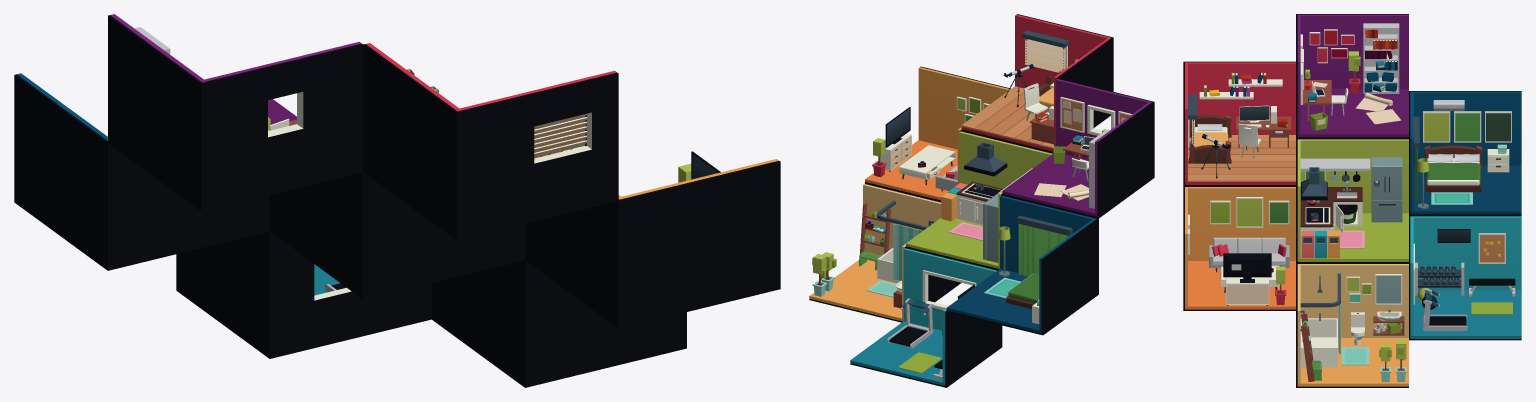
Rendered from enviroments.gltf.
The picture shows the model from 3 angles, left to right: view 1: azimuth 30°, elevation 25°; view 2: azimuth 150°, elevation 25°; view 3: azimuth 270°, elevation 25°; orthographic projection. The views are drawn at different scales.
Visible parts, largest first — view 1: Walls2.001, Walls2, Walls, Walls.002, Walls.001, Walls.003, Walls1; view 2: Walls2.001, Walls.002, Walls1, Walls.003, Walls, Walls2, Walls.001, Table_Body, Fridge, Treadmill_base, Thing_above_the_stove_i_dont_really_know_wat_its_called, Wood_Plank7 (+24 smaller); view 3: Walls1, Walls2.001, Walls.003, Walls, Walls.002, Walls.001, Walls2, Fridge, Bed, Counter.001, BookShelf, Tub (+48 smaller).
Boxes of the visible parts, x1,y1,x2,y2 form: Walls2.001: (108,14,363,211); Walls2: (363,43,618,240); Walls: (525,159,780,328); Walls.002: (14,73,269,270); Walls.001: (269,172,525,299); Walls.003: (431,260,686,387); Walls1: (176,231,431,358); Walls2.001: (1002,78,1154,218); Walls.002: (946,195,1098,335); Walls1: (850,247,1002,387); Walls.003: (809,183,960,322); Walls: (865,66,1010,201); Walls2: (961,14,1113,152); Walls.001: (906,131,1053,269); Table_Body: (899,145,955,179); Fridge: (983,193,999,262); Treadmill_base: (887,298,933,348); Thing_above_the_stove_i_dont_really_know_wat_its_called: (964,142,1007,176); Wood_Plank7: (961,86,1023,129); Walls1: (1409,215,1521,340); Walls2.001: (1296,14,1408,138); Walls.003: (1296,263,1408,387); Walls: (1183,186,1295,310); Walls.002: (1409,91,1521,215); Walls.001: (1296,138,1408,263); Walls2: (1183,61,1295,186); Fridge: (1371,157,1402,222); Bed: (1188,114,1231,163); Counter.001: (1300,187,1362,252); BookShelf: (1363,23,1399,93); Tub: (1300,318,1337,367).
Size of the model in its own units: 10.95 by 8.25 by 10.95.
10 materials, 8 textured.
